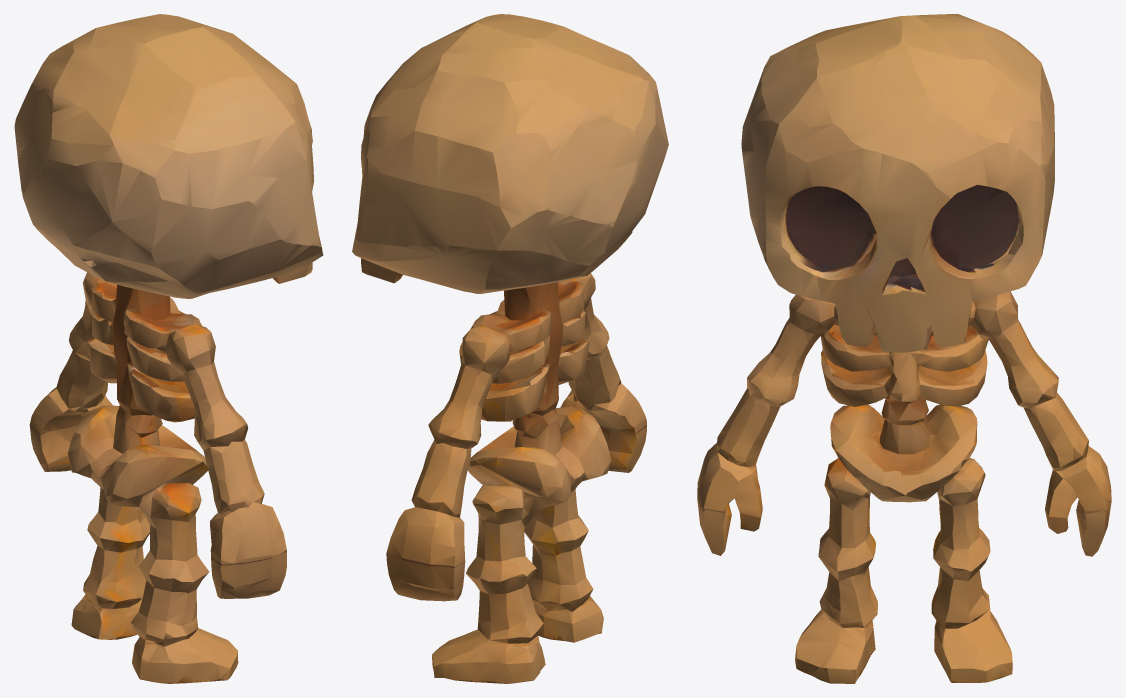
Rendered from maki.FBX.
The picture shows the model from 3 angles, left to right: view 1: azimuth 30°, elevation 25°; view 2: azimuth 150°, elevation 25°; view 3: azimuth 270°, elevation 25°; orthographic projection. The views are drawn at different scales.
Visible parts, largest first — view 1: tripo_node_61e6aebe; view 2: tripo_node_61e6aebe; view 3: tripo_node_61e6aebe.
Boxes of the visible parts, x1,y1,x2,y2 form: tripo_node_61e6aebe: (14,14,323,683); tripo_node_61e6aebe: (352,14,668,683); tripo_node_61e6aebe: (697,14,1111,683).
Size of the model in its own units: 16.99 by 39.31 by 23.11.
